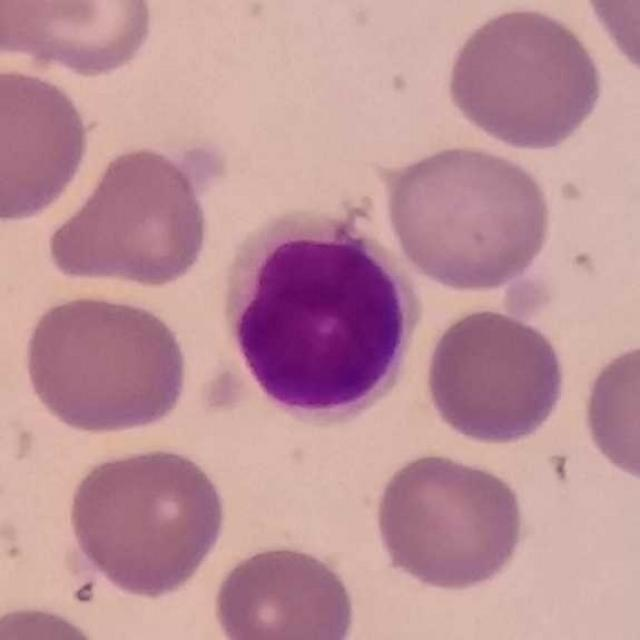Lymphocyte: (218, 209, 421, 426)
RBC: (380, 139, 558, 296), (62, 441, 230, 601), (42, 141, 217, 292), (19, 290, 191, 438), (440, 2, 606, 154), (369, 448, 528, 596), (421, 304, 570, 448), (0, 61, 95, 226), (209, 538, 359, 640), (2, 0, 159, 78), (577, 335, 640, 489), (0, 0, 96, 58), (581, 0, 640, 83), (0, 600, 112, 640)
